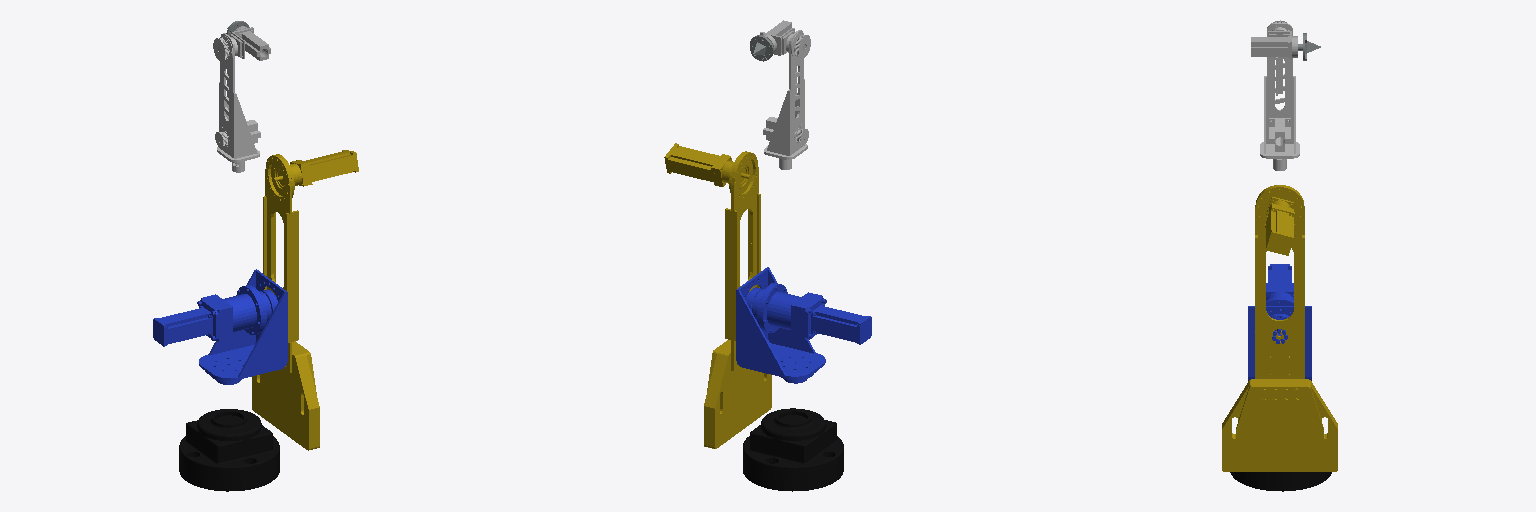
robot.urdf — aravind_urdf:
<?xml version="1.0" encoding="utf-8" ?>
<!-- This URDF was automatically created by SolidWorks to URDF Exporter! Originally created by [author] ([email redacted]) 
     Commit Version: 1.6.0-4-g7f85cfe  Build Version: 1.6.7995.38578
     For more information, please see http://wiki.ros.org/sw_urdf_exporter -->
<robot name="aravind_urdf">
    <link name="world" />
    <link name="base_link">
        <inertial>
            <origin xyz="-0.00444542379406162 -0.00728259656011918 0.150855715391748" rpy="0 0 0" />
            <mass value="0.0776" />
            <inertia ixx="0.682994384050526" ixy="-0.00176176483111433" ixz="-1.3496431751147E-06" iyy="0.569207104597129" iyz="-6.7059329204648E-05" izz="0.726934894228407" />
        </inertial>
        <visual>
            <origin xyz="0 0 0" rpy="0 0 0" />
            <geometry>
                <mesh filename="package://arduinobot_description/meshess/base_link.STL" />
            </geometry>
            <material name="black">
                <color rgba="0.1 0.1 0.1 1" />
            </material>
        </visual>
        <collision>
            <origin xyz="0 0 0" rpy="0 0 0" />
            <geometry>
                <mesh filename="package://arduinobot_description/meshess/base_link.STL" />
            </geometry>
        </collision>
    </link>
    <joint name="virtual_joint" type="fixed">
        <parent link="world" />
        <child link="base_link" />
        <origin xyz="0 0 0" rpy="0 0 0" />
    </joint>
    <link name="link1">
        <inertial>
            <origin xyz="0.0119892929601358 -1.17419403382344E-05 0.165030366968437" rpy="0 0 0" />
            <mass value="0.0595" />
            <inertia ixx="0.253744656389447" ixy="-1.42217680188873E-05" ixz="-0.0482130899952277" iyy="0.32634982848464" iyz="-1.97738577848718E-05" izz="0.274271591295868" />
        </inertial>
        <visual>
            <origin xyz="0 0 0" rpy="0 0 0" />
            <geometry>
                <mesh filename="package://arduinobot_description/meshess/link1.STL" />
            </geometry>
            <material name="red">
                <color rgba="0.2 0.3 0.8 1" />
            </material>
        </visual>
        <collision>
            <origin xyz="0 0 0" rpy="0 0 0" />
            <geometry>
                <mesh filename="package://arduinobot_description/meshess/link1.STL" />
            </geometry>
        </collision>
    </link>
    <joint name="joint1" type="continuous">
        <origin xyz="-0.0069915 -0.0049824 0.4275" rpy="0 0 0" />
        <parent link="base_link" />
        <child link="link1" />
        <axis xyz="0 0 1" />
    </joint>
    <link name="link2">
        <inertial>
            <origin xyz="-0.000127547684951041 -0.191907585751342 -0.0487051171492652" rpy="0 0 0" />
            <mass value="0.0851" />
            <inertia ixx="1.23520650072034" ixy="-0.000335695202028227" ixz="9.87452864807071E-08" iyy="0.743952310820634" iyz="-2.02395137328158E-05" izz="1.92183897433748" />
        </inertial>
        <visual>
            <origin xyz="0 0 0" rpy="0 0 0" />
            <geometry>
                <mesh filename="package://arduinobot_description/meshess/link2.STL" />
            </geometry>
            <material name="black">
                <color rgba="0.7 0.6 0.1 1" />
            </material>
        </visual>
        <collision>
            <origin xyz="0 0 0" rpy="0 0 0" />
            <geometry>
                <mesh filename="package://arduinobot_description/meshess/link2.STL" />
            </geometry>
        </collision>
    </link>
    <joint name="joint2" type="continuous">
        <origin xyz="0.21279 -1.6792E-05 0.212" rpy="1.5708 0 -1.5708" />
        <parent link="link1" />
        <child link="link2" />
        <axis xyz="0 0 -1" />
    </joint>
    <link name="link3">
        <inertial>
            <origin xyz="-0.00166338636581466 -0.110913891042808 0.0324420515741239" rpy="0 0 0" />
            <mass value="0.0498" />
            <inertia ixx="0.145911390485181" ixy="3.42426002611999E-05" ixz="3.03387992579821E-06" iyy="0.205974101669925" iyz="-0.000397722963446423" izz="0.325097638091713" />
        </inertial>
        <visual>
            <origin xyz="0 0 0" rpy="0 0 0" />
            <geometry>
                <mesh filename="package://arduinobot_description/meshess/link3.STL" />
            </geometry>
            <material name="red">
                <color rgba="0.8 0.2 0.2 1" />
            </material>
        </visual>
        <collision>
            <origin xyz="0 0 0" rpy="0 0 0" />
            <geometry>
                <mesh filename="package://arduinobot_description/meshess/link3.STL" />
            </geometry>
        </collision>
    </link>
    <joint name="joint3" type="continuous">
        <origin xyz="0 0.512 0.083" rpy="0 0 0" />
        <parent link="link2" />
        <child link="link3" />
        <axis xyz="0 0 -1" />
    </joint>
    <link name="link4">
        <inertial>
            <origin xyz="-0.000155760312209952 0.0174731282922833 0.137141744648845" rpy="0 0 0" />
            <mass value="0.0106" />
            <inertia ixx="0.0588768825579607" ixy="-1.60894019269219E-05" ixz="4.09378613988868E-05" iyy="0.0586634562117962" iyz="-0.000952461734697792" izz="0.0141089996724949" />
        </inertial>
        <visual>
            <origin xyz="0 0 0" rpy="0 0 0" />
            <geometry>
                <mesh filename="package://arduinobot_description/meshess/link4.STL" />
            </geometry>
            <material name="black">
                <color rgba="0.752941176470588 0.752941176470588 0.752941176470588 1" />
            </material>
        </visual>
        <collision>
            <origin xyz="0 0 0" rpy="0 0 0" />
            <geometry>
                <mesh filename="package://arduinobot_description/meshess/link4.STL" />
            </geometry>
        </collision>
    </link>
    <joint name="joint4" type="continuous">
        <origin xyz="0 0.14775 0.087" rpy="1.5708 0 3.1416" />
        <parent link="link3" />
        <child link="link4" />
        <axis xyz="0 0 1" />
    </joint>
    <link name="link5">
        <inertial>
            <origin xyz="-0.00147733703375156 -1.17160596451171E-05 0.05681353828552" rpy="0 0 0" />
            <mass value="0.0039" />
            <inertia ixx="0.00289363858140416" ixy="-4.15842530537375E-07" ixz="-0.000212534336821572" iyy="0.0059720834734646" iyz="-1.15304151445946E-06" izz="0.00596449267447299" />
        </inertial>
        <visual>
            <origin xyz="0 0 0" rpy="0 0 0" />
            <geometry>
                <mesh filename="package://arduinobot_description/meshess/link5.STL" />
            </geometry>
            <material name="gray">
                <color rgba="0.7 0.7 0.7 1" />
            </material>
        </visual>
        <collision>
            <origin xyz="0 0 0" rpy="0 0 0" />
            <geometry>
                <mesh filename="package://arduinobot_description/meshess/link5.STL" />
            </geometry>
        </collision>
    </link>
    <joint name="joint5" type="continuous">
        <origin xyz="-0.00011158 0.021335 0.44" rpy="1.5708 0 0" />
        <parent link="link4" />
        <child link="link5" />
        <axis xyz="0 0 -1" />
    </joint>
    <link name="link6">
        <inertial>
            <origin xyz="5.4244208818055E-05 -3.36060310970887E-06 0.0177180164917108" rpy="0 0 0" />
            <mass value="0.00064" />
            <inertia ixx="0.000342396263703602" ixy="3.04371433957007E-06" ixz="2.84087050971312E-07" iyy="0.000354827800235625" iyz="-2.2167618705053E-08" izz="0.00062989775719375" />
        </inertial>
        <visual>
            <origin xyz="0 0 0" rpy="0 0 0" />
            <geometry>
                <mesh filename="package://arduinobot_description/meshess/link6.STL" />
            </geometry>
            <material name="red">
                <color rgba="0.529411764705882 0.549019607843137 0.549019607843137 1" />
            </material>
        </visual>
        <collision>
            <origin xyz="0 0 0" rpy="0 0 0" />
            <geometry>
                <mesh filename="package://arduinobot_description/meshess/link6.STL" />
            </geometry>
        </collision>
    </link>
    <joint name="joint6" type="continuous">
        <origin xyz="0.067 0 0.072" rpy="1.5708 0 1.5708" />
        <parent link="link5" />
        <child link="link6" />
        <axis xyz="0 0 1" />
    </joint>
    <!-- gazebo color-->
    <gazebo reference="base_link">
        <material>Gazebo/Gray</material>
        <plugin name="gazebo_ros_control">
            <robotNamespace>/</robotNamespace>
        </plugin>
    </gazebo>
    <gazebo reference="link1">
        <material>Gazebo/Orange</material>
    </gazebo>
    <gazebo reference="link2">
        <material>Gazebo/Gray</material>
    </gazebo>
    <gazebo reference="link3">
        <material>Gazebo/Orange</material>
    </gazebo>
    <gazebo reference="link4">
        <material>Gazebo/Gray</material>
    </gazebo>
    <gazebo reference="link5">
        <material>Gazebo/Orange</material>
    </gazebo>
    <gazebo reference="link6">
        <material>Gazebo/Blue</material>
    </gazebo>
    <!--Position Transmissions-->
    <transmission name="t_1">
        <type>transmission_interface/SimpleTransmission</type>
        <joint name="joint1">
            <hardwareInterface>hardware_interface/PositionJointInterface</hardwareInterface>
        </joint>
        <actuator name="motor_1">
            <hardwareInterface>hardware_interface/PositionJointInterface</hardwareInterface>
            <mechanicalReduction>1</mechanicalReduction>
        </actuator>
    </transmission>
    <transmission name="t_2">
        <type>transmission_interface/SimpleTransmission</type>
        <joint name="joint2">
            <hardwareInterface>hardware_interface/PositionJointInterface</hardwareInterface>
        </joint>
        <actuator name="motor_2">
            <hardwareInterface>hardware_interface/PositionJointInterface</hardwareInterface>
            <mechanicalReduction>1</mechanicalReduction>
        </actuator>
    </transmission>
    <transmission name="t_3">
        <type>transmission_interface/SimpleTransmission</type>
        <joint name="joint3">
            <hardwareInterface>hardware_interface/PositionJointInterface</hardwareInterface>
        </joint>
        <actuator name="motor_3">
            <hardwareInterface>hardware_interface/PositionJointInterface</hardwareInterface>
            <mechanicalReduction>1</mechanicalReduction>
        </actuator>
    </transmission>
    <transmission name="t_4">
        <type>transmission_interface/SimpleTransmission</type>
        <joint name="joint4">
            <hardwareInterface>hardware_interface/PositionJointInterface</hardwareInterface>
        </joint>
        <actuator name="motor_4">
            <hardwareInterface>hardware_interface/PositionJointInterface</hardwareInterface>
            <mechanicalReduction>1</mechanicalReduction>
        </actuator>
    </transmission>
    <transmission name="t_5">
        <type>transmission_interface/SimpleTransmission</type>
        <joint name="joint5">
            <hardwareInterface>hardware_interface/PositionJointInterface</hardwareInterface>
        </joint>
        <actuator name="motor_5">
            <hardwareInterface>hardware_interface/PositionJointInterface</hardwareInterface>
            <mechanicalReduction>1</mechanicalReduction>
        </actuator>
    </transmission>
    <transmission name="t_6">
        <type>transmission_interface/SimpleTransmission</type>
        <joint name="joint6">
            <hardwareInterface>hardware_interface/PositionJointInterface</hardwareInterface>
        </joint>
        <actuator name="motor_6">
            <hardwareInterface>hardware_interface/PositionJointInterface</hardwareInterface>
            <mechanicalReduction>1</mechanicalReduction>
        </actuator>
    </transmission>
    <!-- Plugin-->
    <gazebo>
        <plugin name="gazebo_ros_control" filename="libgazebo_ros_control.so" />
        <robotNamespace>/arduinobot</robotNamespace>
        <robotSimType>gazebo_ros_control/DefaultRobotHWSim</robotSimType>
        <legacyModeNS>true</legacyModeNS>
    </gazebo>
    <!-- self collide -->
    <!-- <gazebo reference="link1">
    <selfCollide>true</selfCollide>
  </gazebo>
  <gazebo reference="link2">
    <selfCollide>true</selfCollide>
  </gazebo>
  <gazebo reference="link3">
    <selfCollide>true</selfCollide>
  </gazebo>
  <gazebo reference="link4">
    <selfCollide>true</selfCollide>
  </gazebo>
  <gazebo reference="link5">
    <selfCollide>true</selfCollide>
  </gazebo>
  <gazebo reference="link6">
    <selfCollide>true</selfCollide>
  </gazebo>  -->
</robot>

--- What the picture shows (computed from the rendered views, not written in the file) ---
3 views of the same robot in one strip: view 1: azimuth 30°, elevation 25°; view 2: azimuth 150°, elevation 25°; view 3: azimuth 270°, elevation 25° (orthographic).
Model aravind_urdf with 8 links and 7 joints (6 continuous, 1 fixed), rooted at world, posed every joint at zero.
Visible links, largest first — view 1: link2, link1, base_link, link4, link5; view 2: link2, link1, base_link, link4, link5; view 3: link2, link4, link1, base_link, link5.
Link boxes in pixels (x1=…): link2: x1=252, y1=150, x2=358, y2=450; link1: x1=153, y1=269, x2=287, y2=384; base_link: x1=179, y1=409, x2=279, y2=491; link4: x1=213, y1=33, x2=260, y2=172; link5: x1=218, y1=26, x2=270, y2=60; link2: x1=664, y1=143, x2=771, y2=448; link1: x1=736, y1=267, x2=871, y2=383; base_link: x1=743, y1=408, x2=843, y2=491; link4: x1=763, y1=30, x2=810, y2=169; link5: x1=760, y1=20, x2=805, y2=55; link2: x1=1222, y1=185, x2=1337, y2=471; link4: x1=1260, y1=20, x2=1299, y2=170; link1: x1=1248, y1=264, x2=1311, y2=380; base_link: x1=1230, y1=472, x2=1331, y2=491; link5: x1=1251, y1=31, x2=1297, y2=59.
Bounding box of the posed robot: 0.8322 × 0.423 × 1.79 m (x, y, z).
Meshes: 7 distinct files referenced, 6 mesh visuals loaded (6 binary STL); not drawn: 1 (reference not matched to a file when rendering).
